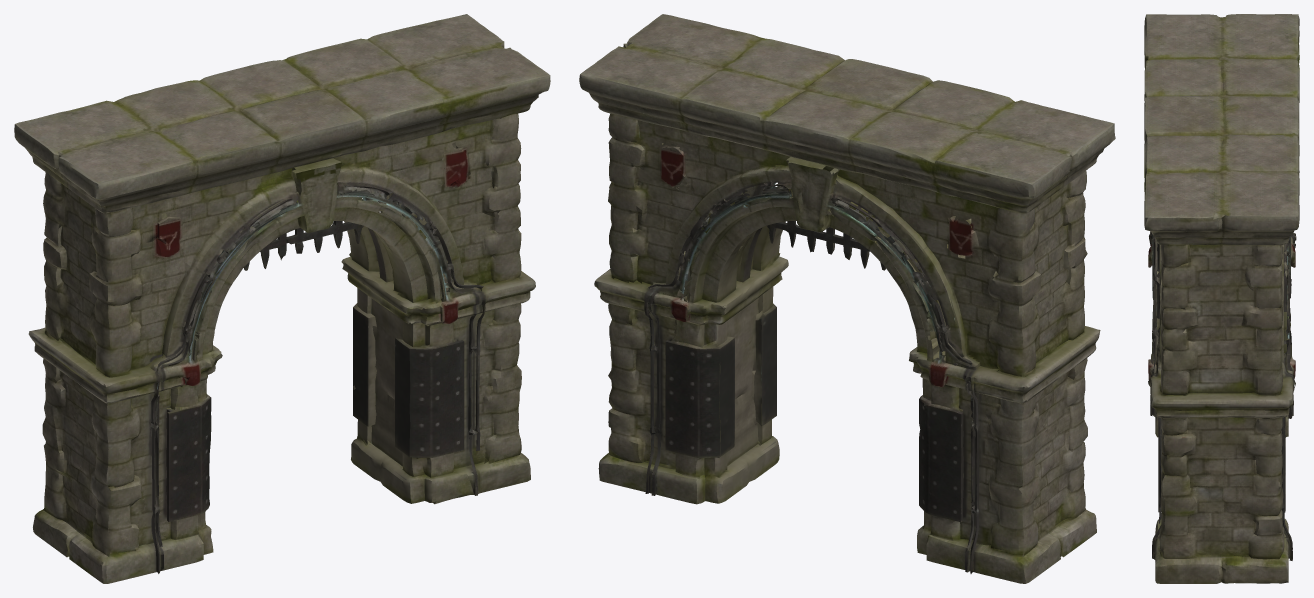
Rendered from relay_gatehouse_arch.glb.
3 renders of one model, left to right at view 1: azimuth 30°, elevation 25°; view 2: azimuth 150°, elevation 25°; view 3: azimuth 270°, elevation 25°, orthographic. The views are drawn at different scales.
Visible parts, largest first — view 1: Mesh_0; view 2: Mesh_0; view 3: Mesh_0.
Boxes of the visible parts, bbox=[...] form: Mesh_0: bbox=[14, 14, 550, 583]; Mesh_0: bbox=[579, 14, 1115, 583]; Mesh_0: bbox=[1144, 14, 1299, 583].
Bounding box in the file's own units: 1.9 × 1.64 × 0.6149.
Materials: 1 (1 with a texture image).
